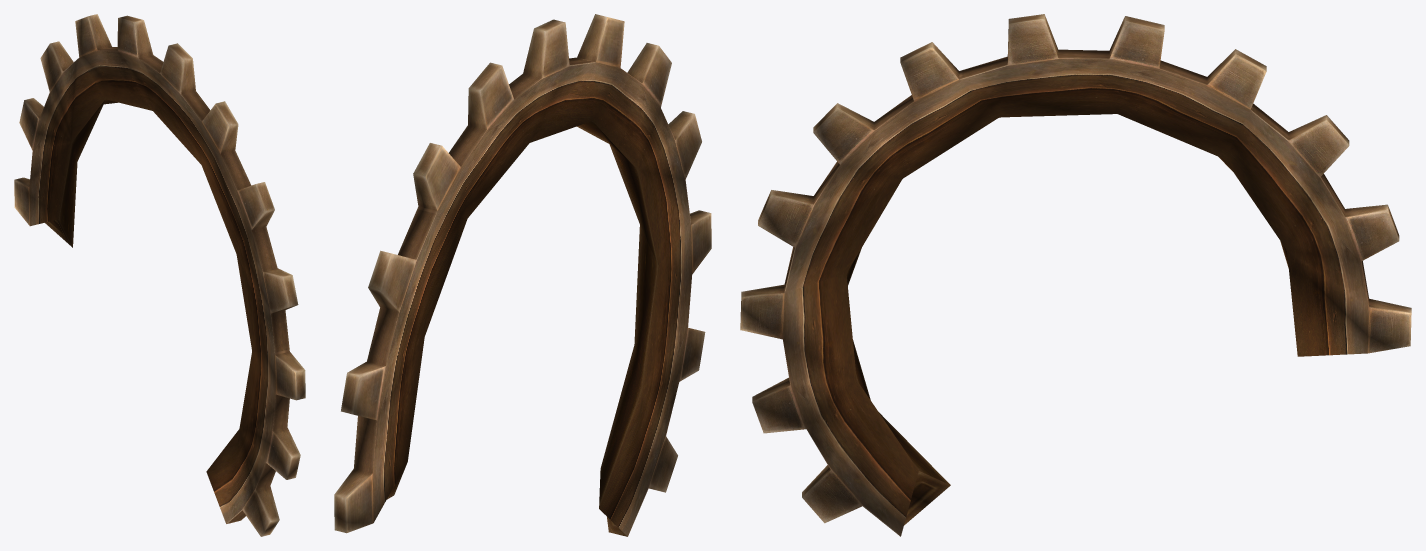
File: obj_macoprgrge01-03.glb
3 renders of one model, left to right at view 1: azimuth 30°, elevation 25°; view 2: azimuth 150°, elevation 25°; view 3: azimuth 270°, elevation 25°, orthographic. The views are drawn at different scales.
Visible parts, largest first — view 1: part_0; view 2: part_0; view 3: part_0.
Part boxes in pixels (left/top/right/bottom): part_0: left=14, top=14, right=305, bottom=536; part_0: left=334, top=14, right=711, bottom=536; part_0: left=740, top=14, right=1411, bottom=536.
Size of the model in its own units: 1.75 by 49.19 by 57.98.
Materials: 1 (1 with a texture image).
